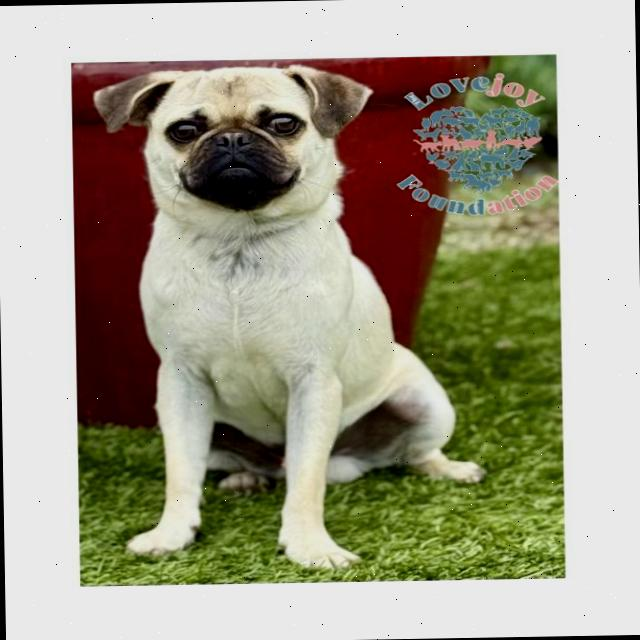pug_dog: (92, 62, 377, 238)
